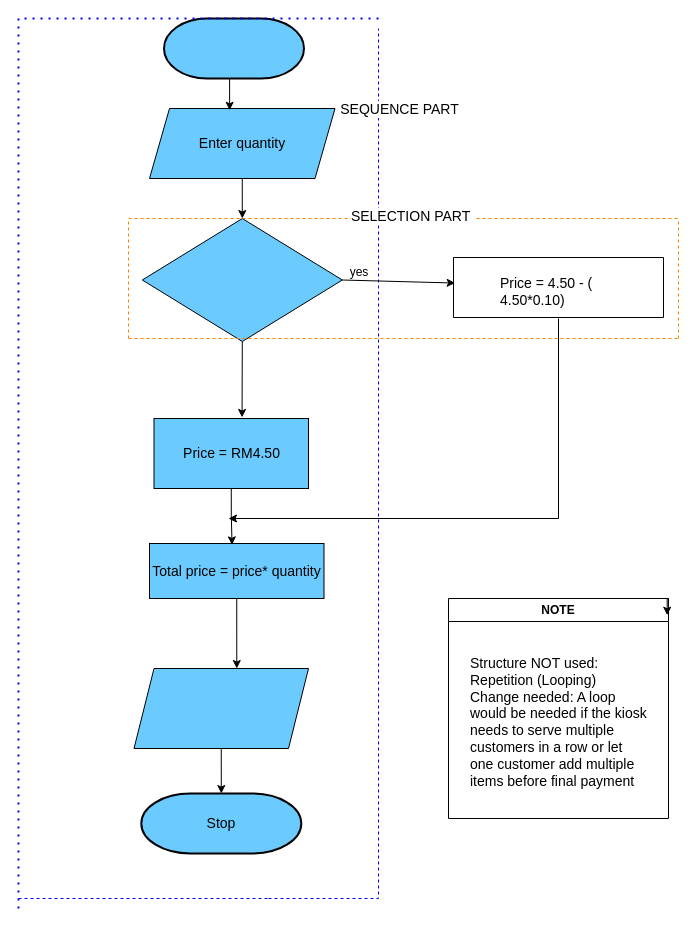
Image size: 697x927. Some labels were removed from this diagram. The centre of each missing label's shape, as x and y in pixels:
Display Price: the point at 220,708
is a member or not ?: the point at 241,280
START: the point at 233,48
